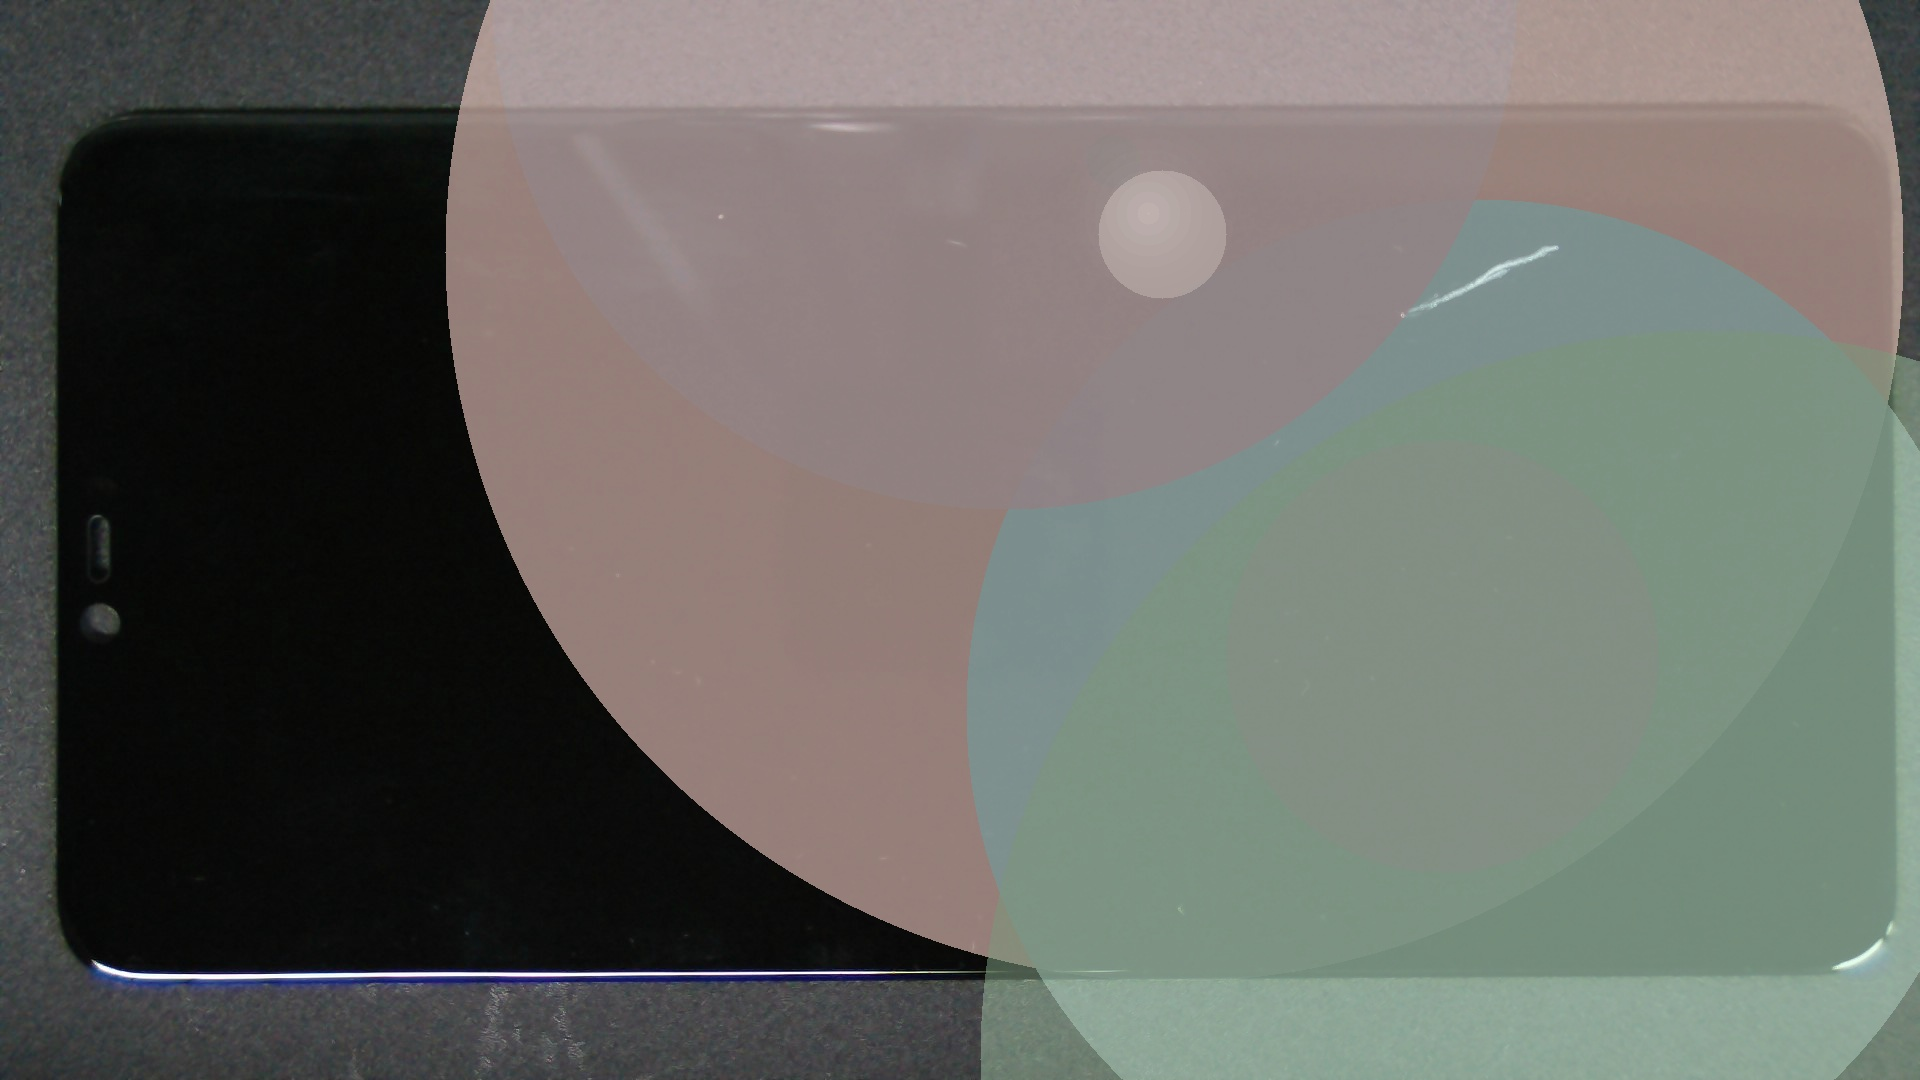oil: (769, 123, 1920, 369)
